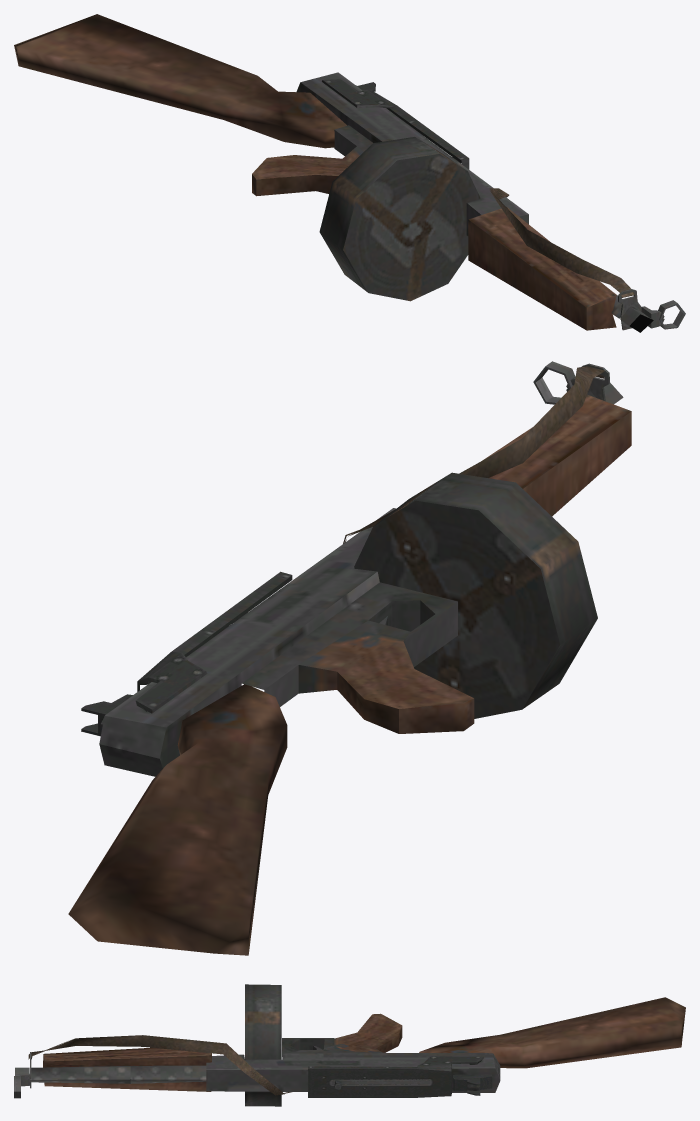
The model's file is Pickup_WeaponCfq03.glb.
3 views of the same model, one above another, from view 1: azimuth 30°, elevation 25°; view 2: azimuth 150°, elevation 25°; view 3: azimuth 270°, elevation 25° (orthographic). The views are drawn at different scales.
Parts seen in each view (by area): view 1: pk_weapon_cfq03; view 2: pk_weapon_cfq03; view 3: pk_weapon_cfq03.
Part boxes in pixels (x1,y1,x2,y2): pk_weapon_cfq03: (14,14,685,332); pk_weapon_cfq03: (68,361,631,955); pk_weapon_cfq03: (14,984,685,1106).
Bounding box in the file's own units: 1.42 × 0.8237 × 4.59.
Materials: 1 (1 with a texture image).
